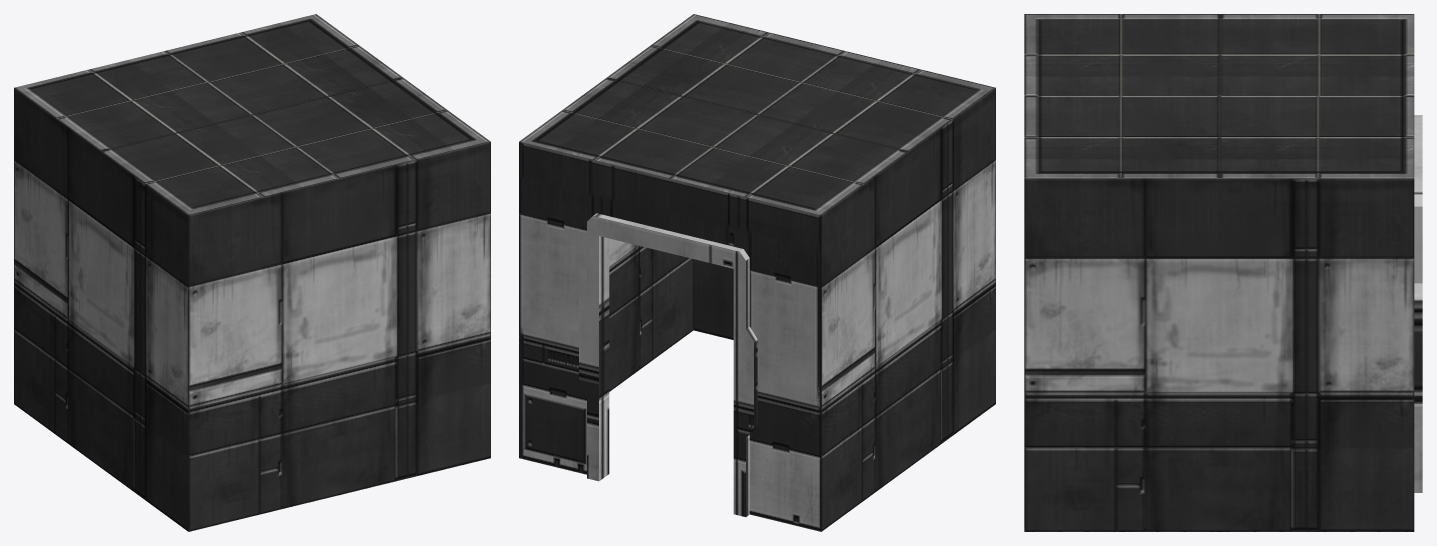
Rendered from ElevatorTop.fbx.
3 renders of one model, left to right at view 1: azimuth 30°, elevation 25°; view 2: azimuth 150°, elevation 25°; view 3: azimuth 270°, elevation 25°, orthographic. The views are drawn at different scales.
Parts seen in each view (by area): view 1: ElevatorTop; view 2: ElevatorTop; view 3: ElevatorTop.
Boxes of the visible parts, x1,y1,x2,y2 form: ElevatorTop: (14, 14, 490, 531); ElevatorTop: (519, 14, 995, 531); ElevatorTop: (1024, 14, 1422, 531).
Bounding box in the file's own units: 5 × 5 × 5.11.
